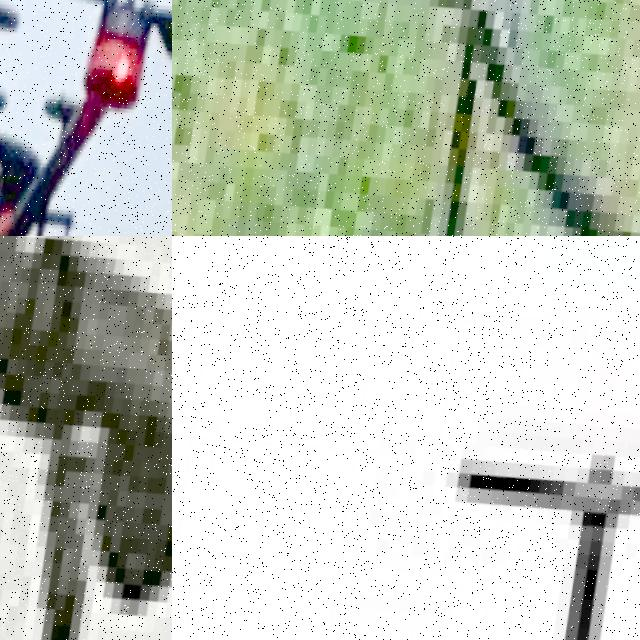drone: (172, 304, 640, 640), (172, 0, 640, 236), (0, 236, 172, 640), (0, 0, 172, 236)
